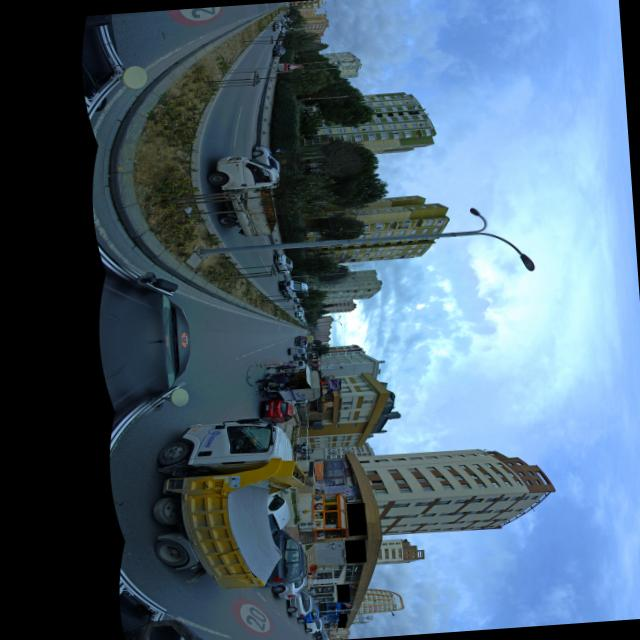SignStore: (345, 504, 365, 536), (345, 539, 364, 563), (336, 583, 348, 602), (338, 613, 346, 622), (337, 621, 344, 628), (340, 604, 344, 610)
